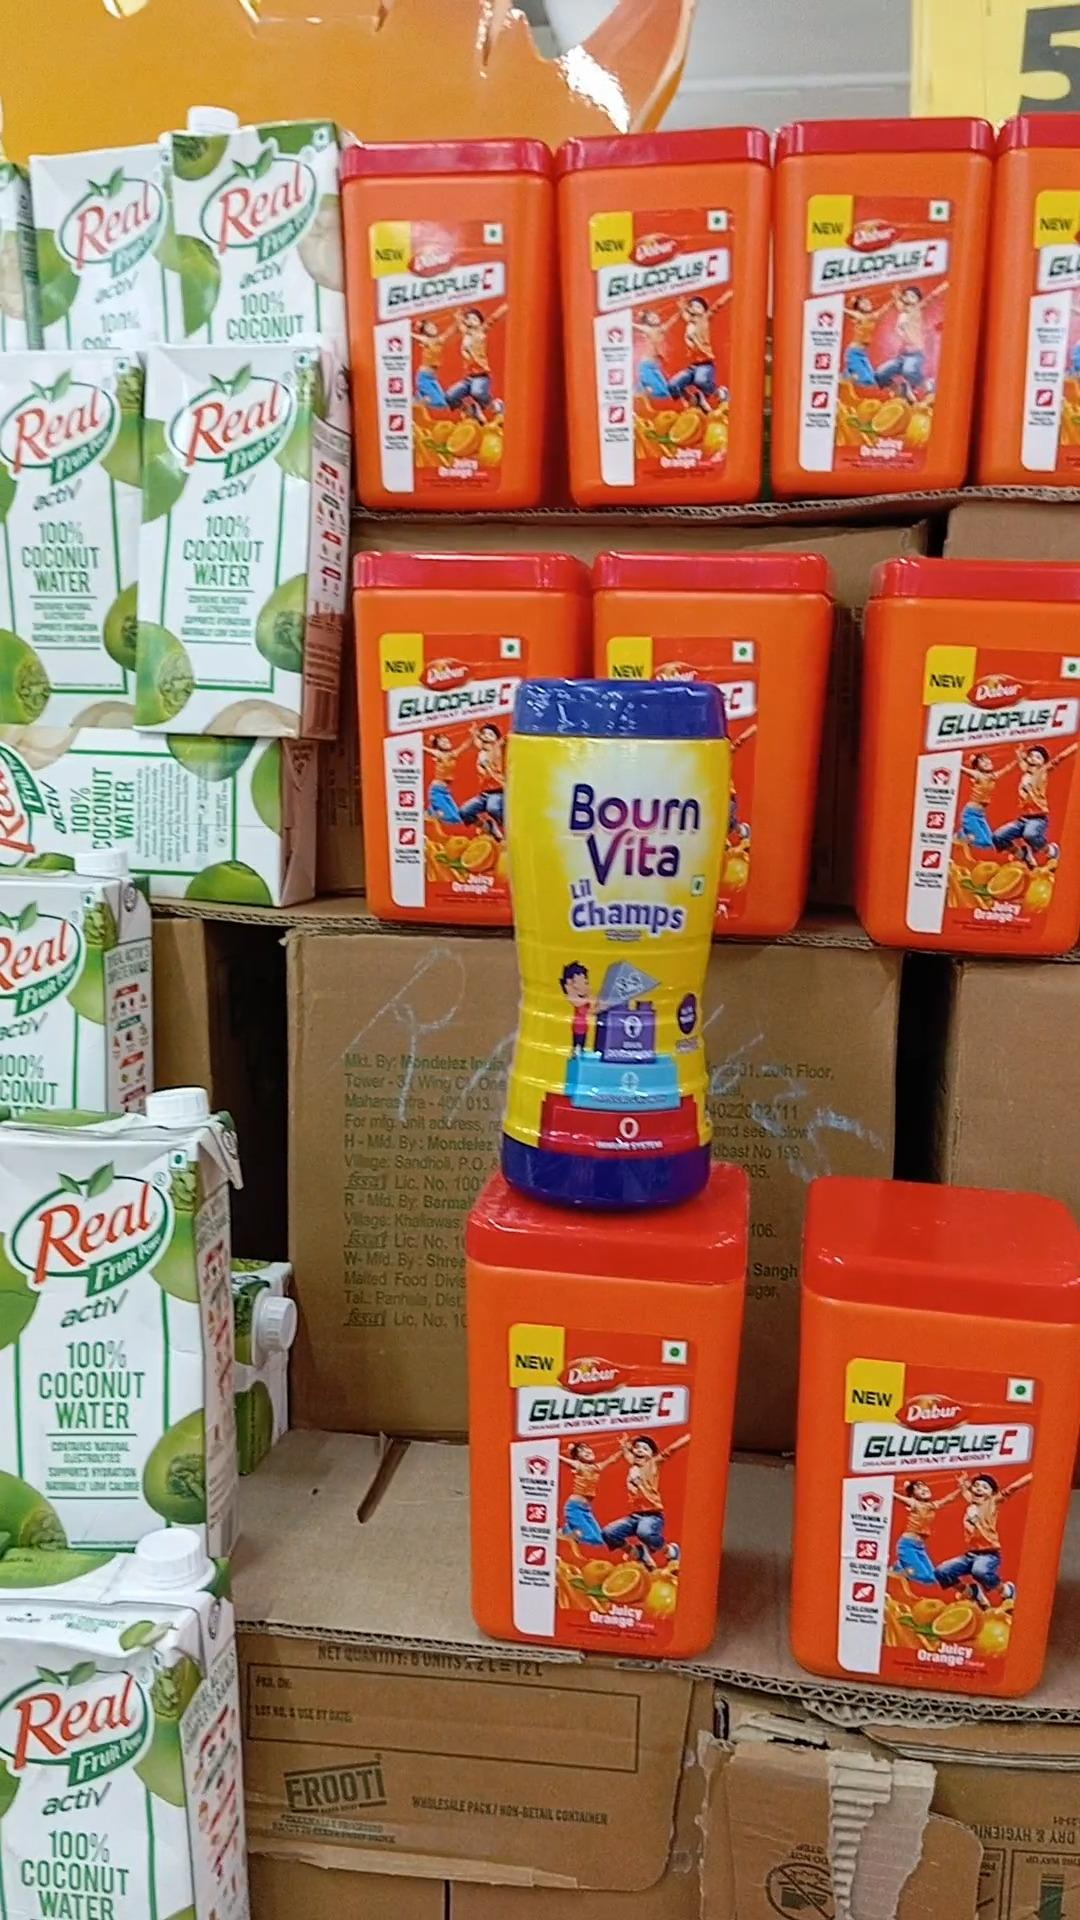BOURN_VITA_CHAMPS_500_G_JAR: (508, 675, 724, 1222)
